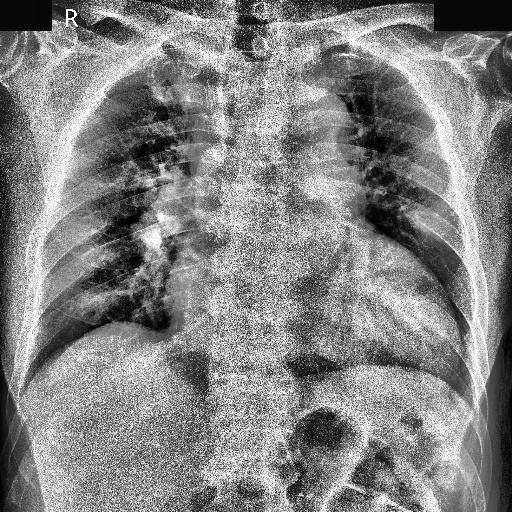0- Aortic enlargement: (257, 84, 350, 188), (268, 88, 354, 191), (279, 89, 358, 175)
3- Cardiomegaly: (163, 249, 458, 386), (157, 282, 462, 388), (160, 289, 464, 371)
